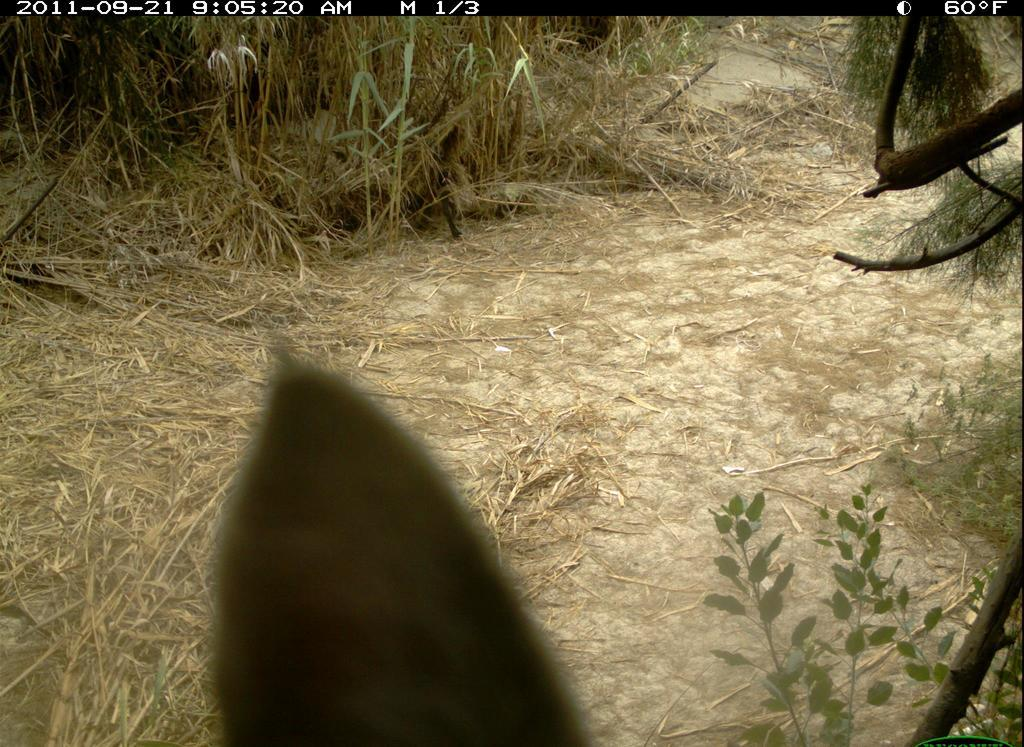bobcat: (187, 341, 655, 747)
